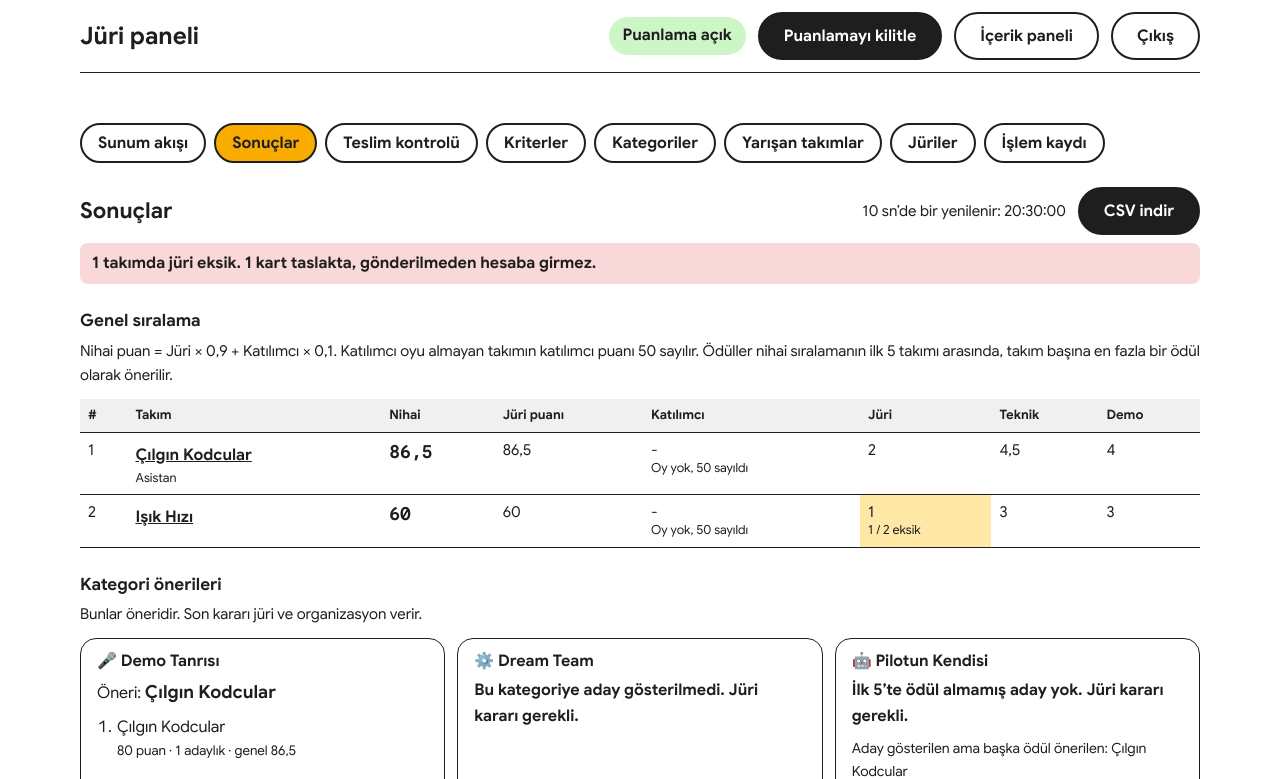
it: ayarlar › ağırlık toplamı 100 değilse kaydettirmez
Expected: the button "Puanlamayı kilitle" is shown, [758,12,942,60]
Click the button "Kriterler" at (536, 143), box [486,123,586,163]
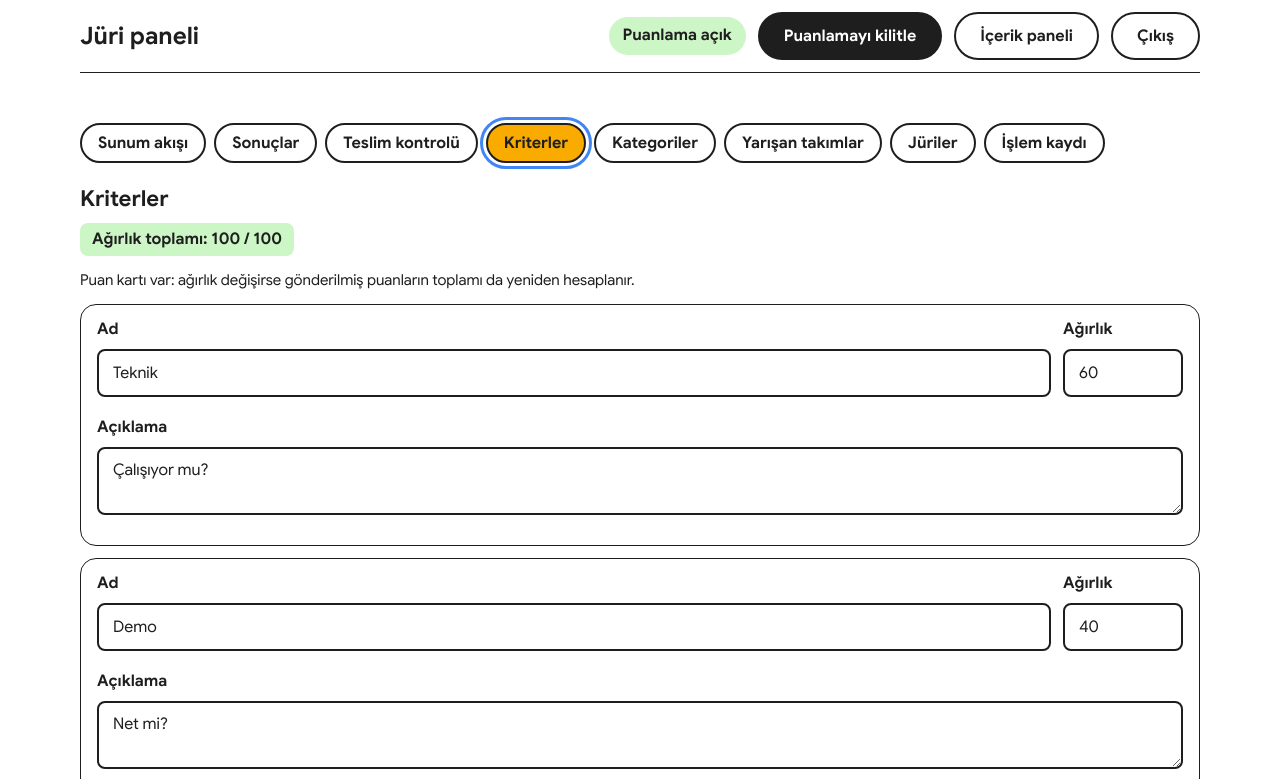
Clear the 1st number field labelled "Ağırlık" at (1123, 373), box [1063,349,1183,397]
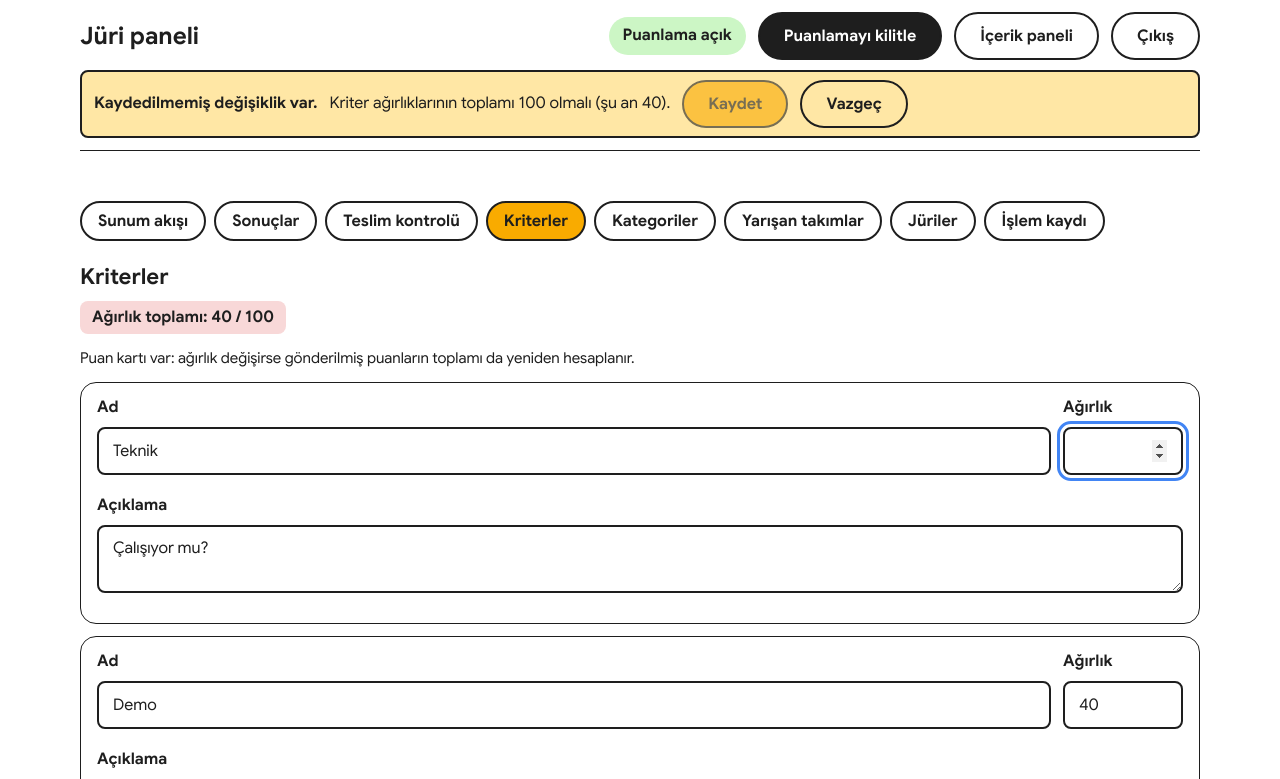
Type "50" into the 1st number field labelled "Ağırlık" at (1123, 451), box [1063,427,1183,475]
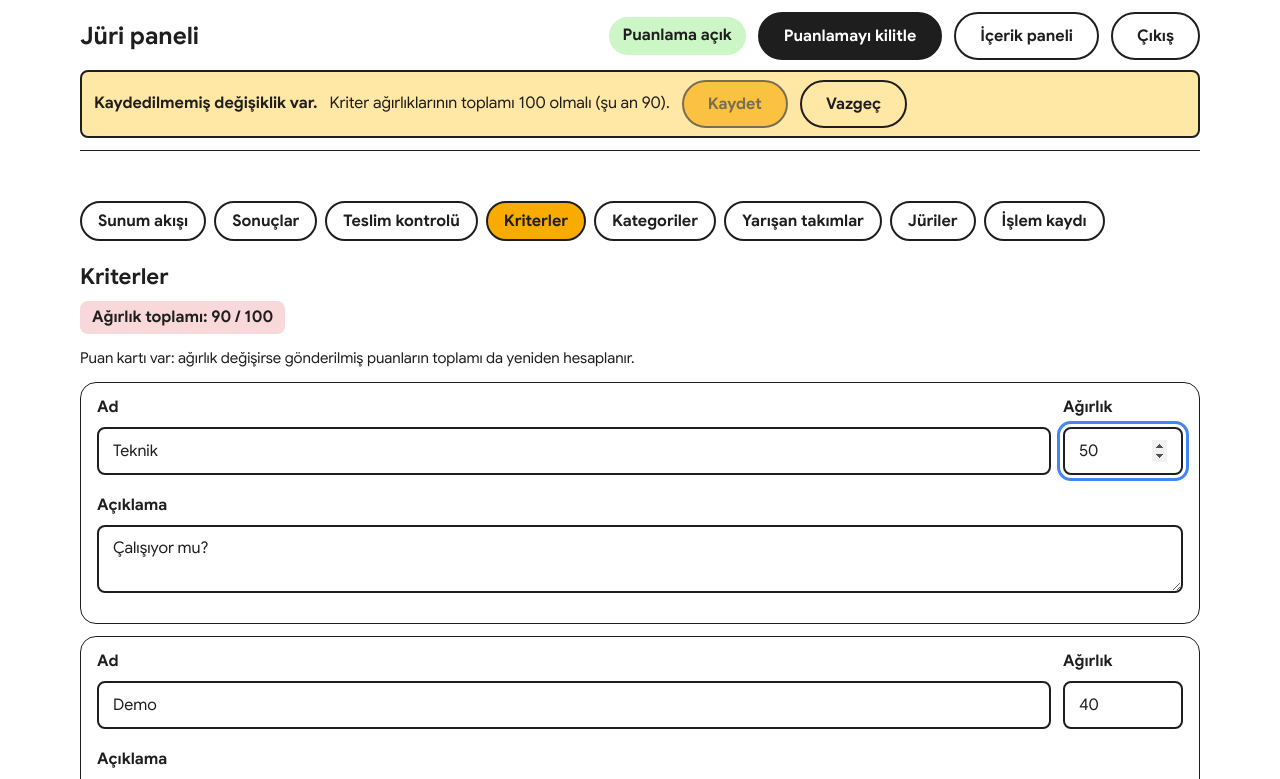
Expected: the button "Kaydet" is disabled, [682,80,788,128]
Expected: the message "Kriter ağırlıklarının toplamı 100 olmalı (şu an 90)." is shown, [330,91,670,117]
